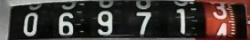digits: (209, 0, 233, 39), (174, 7, 190, 36), (97, 10, 113, 34), (57, 12, 74, 34), (135, 11, 151, 34), (23, 12, 38, 36)
